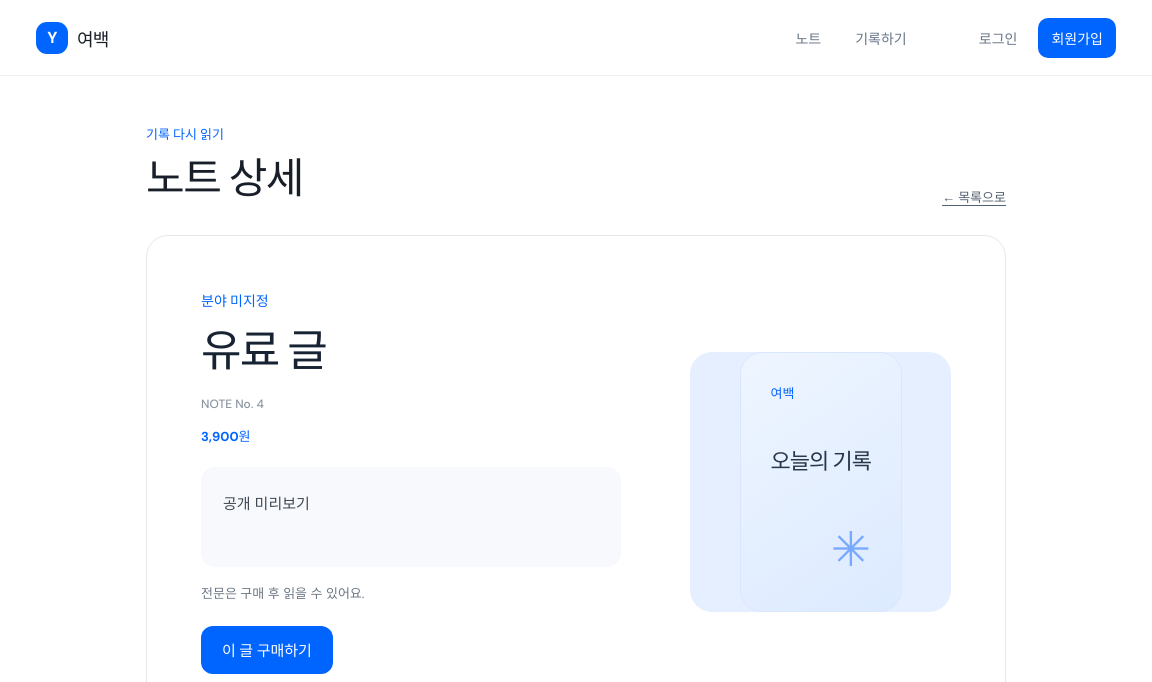
Test: 여백 페이지 흐름 › 구매가 401이면 로그인 안내를 표시한다
Click the button with test id "purchase-note": (267, 650) [201, 626, 333, 674]
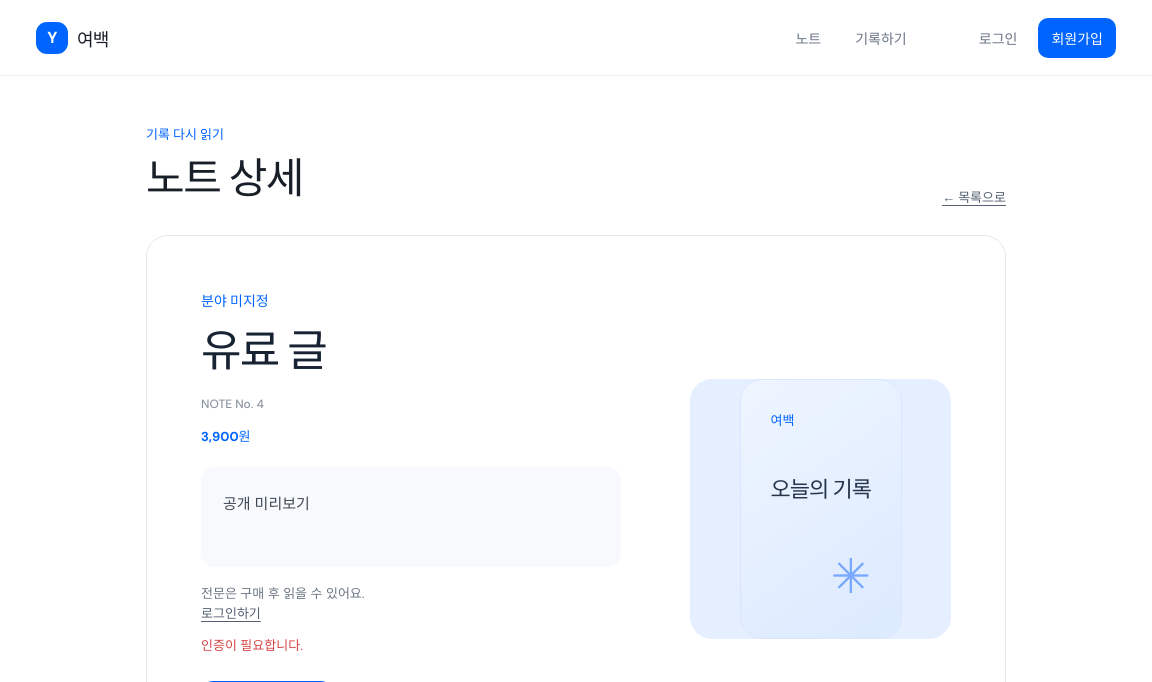
Result: the message "인증이 필요합니다." is shown at [201, 637, 303, 654]
Result: the link to "/login" reads "로그인하기" at [201, 605, 261, 622]
